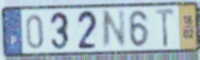0: (24, 13, 46, 50)
2: (76, 8, 100, 53)
3: (49, 10, 73, 53)
6: (127, 9, 151, 49)
N: (101, 8, 128, 52)
T: (154, 7, 176, 49)
